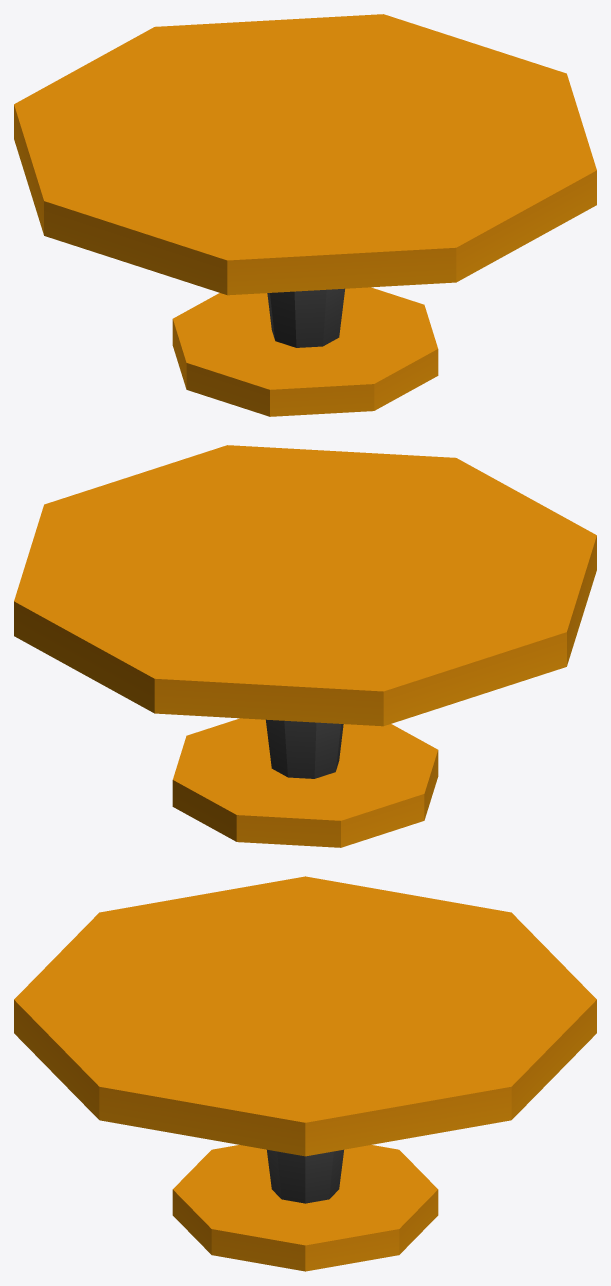
File: table orange.fbx
3 views of the same model, one above another, from view 1: azimuth 30°, elevation 25°; view 2: azimuth 150°, elevation 25°; view 3: azimuth 270°, elevation 25° (orthographic). The views are drawn at different scales.
Parts seen in each view (by area): view 1: table_orange; view 2: table_orange; view 3: table_orange.
Boxes of the visible parts, x1,y1,x2,y2 form: table_orange: (14, 14, 596, 416); table_orange: (14, 445, 596, 847); table_orange: (14, 876, 596, 1271).
Bounding box in the file's own units: 128 × 52.12 × 128.
1 material, 1 textured.
